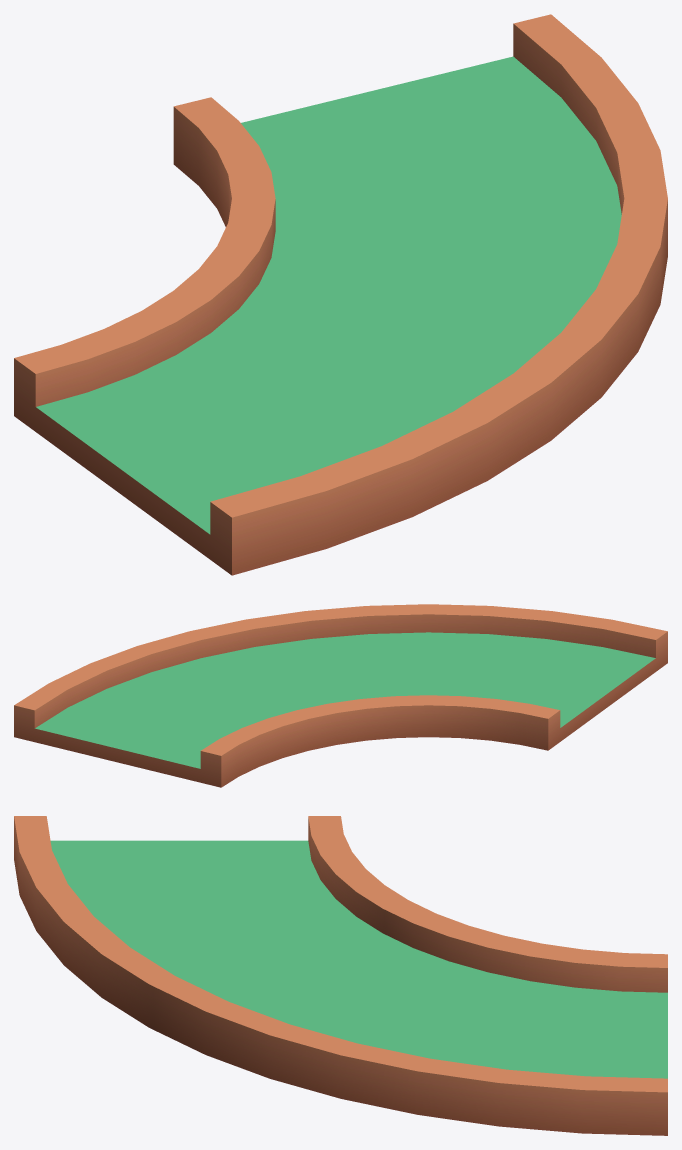
Rendered from round-large-corner.glb.
3 views of the same model, one above another, from view 1: azimuth 30°, elevation 25°; view 2: azimuth 150°, elevation 25°; view 3: azimuth 270°, elevation 25° (orthographic). The views are drawn at different scales.
Parts seen in each view (by area): view 1: round-large-corner; view 2: round-large-corner; view 3: round-large-corner.
Boxes of the visible parts, box(x1,y1,x2,y2) form: round-large-corner: box(14, 14, 667, 575); round-large-corner: box(14, 604, 667, 787); round-large-corner: box(14, 816, 667, 1135).
Bounding box in the file's own units: 2 × 0.1467 × 2.
Materials: 1 (1 with a texture image).
